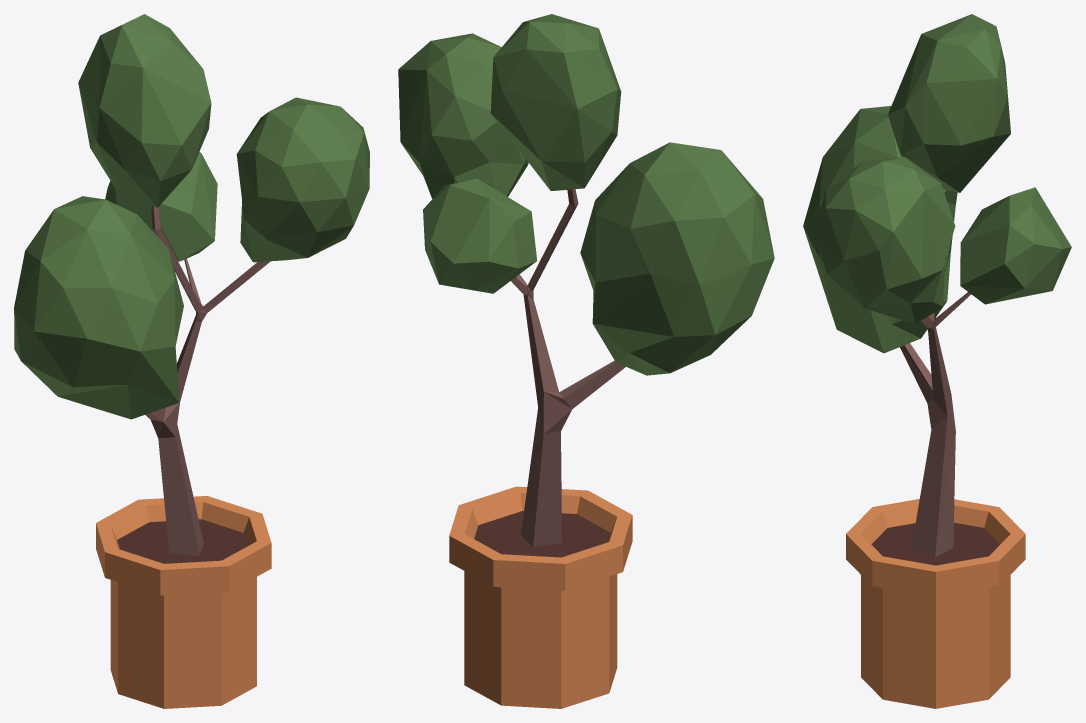
The model's file is Plant2.fbx.
3 renders of one model, left to right at view 1: azimuth 30°, elevation 25°; view 2: azimuth 150°, elevation 25°; view 3: azimuth 270°, elevation 25°, orthographic. The views are drawn at different scales.
Parts seen in each view (by area): view 1: Flower_03; view 2: Flower_03; view 3: Flower_03.
Part boxes in pixels (x1,y1,x2,y2): Flower_03: (14, 14, 369, 708); Flower_03: (398, 14, 774, 708); Flower_03: (803, 14, 1071, 708).
Size of the model in its own units: 128 by 231 by 87.45.
